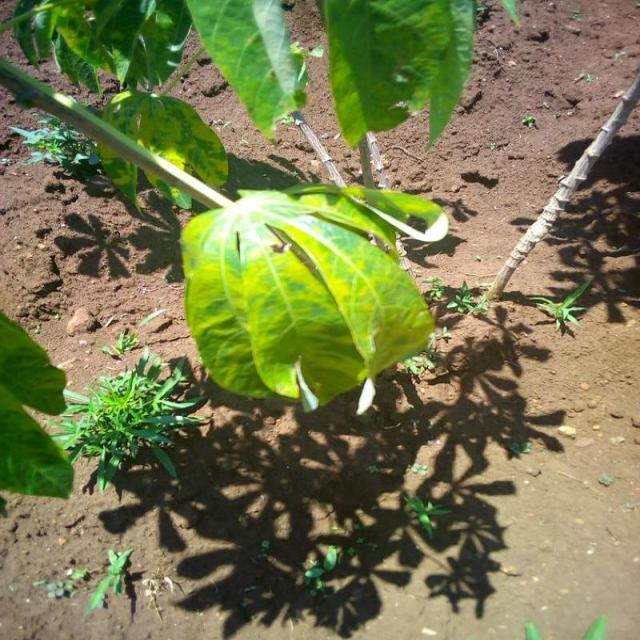cassava leaf: (179, 184, 438, 415), (317, 0, 477, 150), (95, 88, 229, 214)
